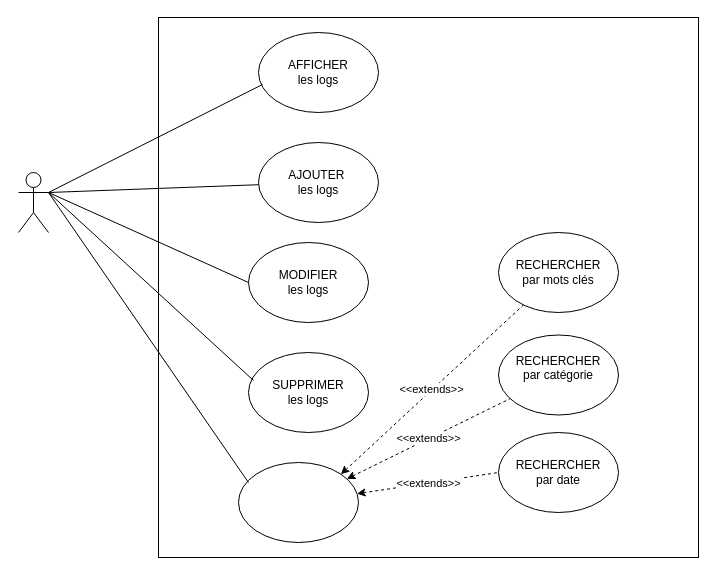
Some shapes in this 716 by 575 pixel diagram are drawn without their labels. The centre of each missing label's shape, as x and y in pixels:
"admin" belongs at [33,202].
"RECHERCHER les logs" belongs at [298,502].
